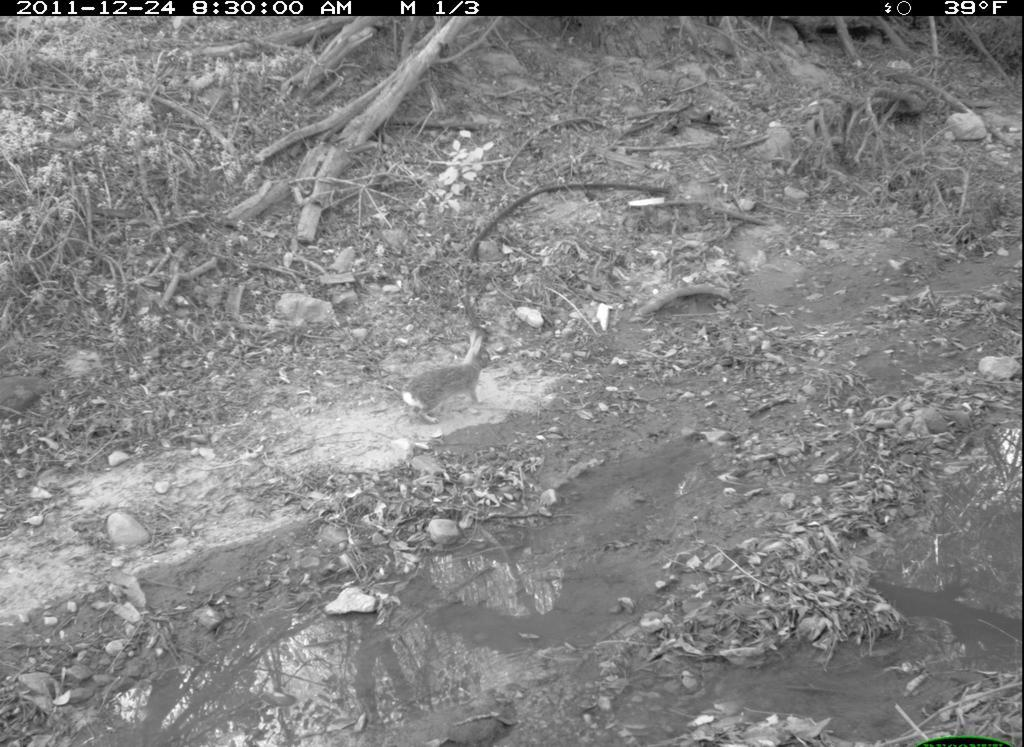rabbit: (399, 322, 501, 432)
